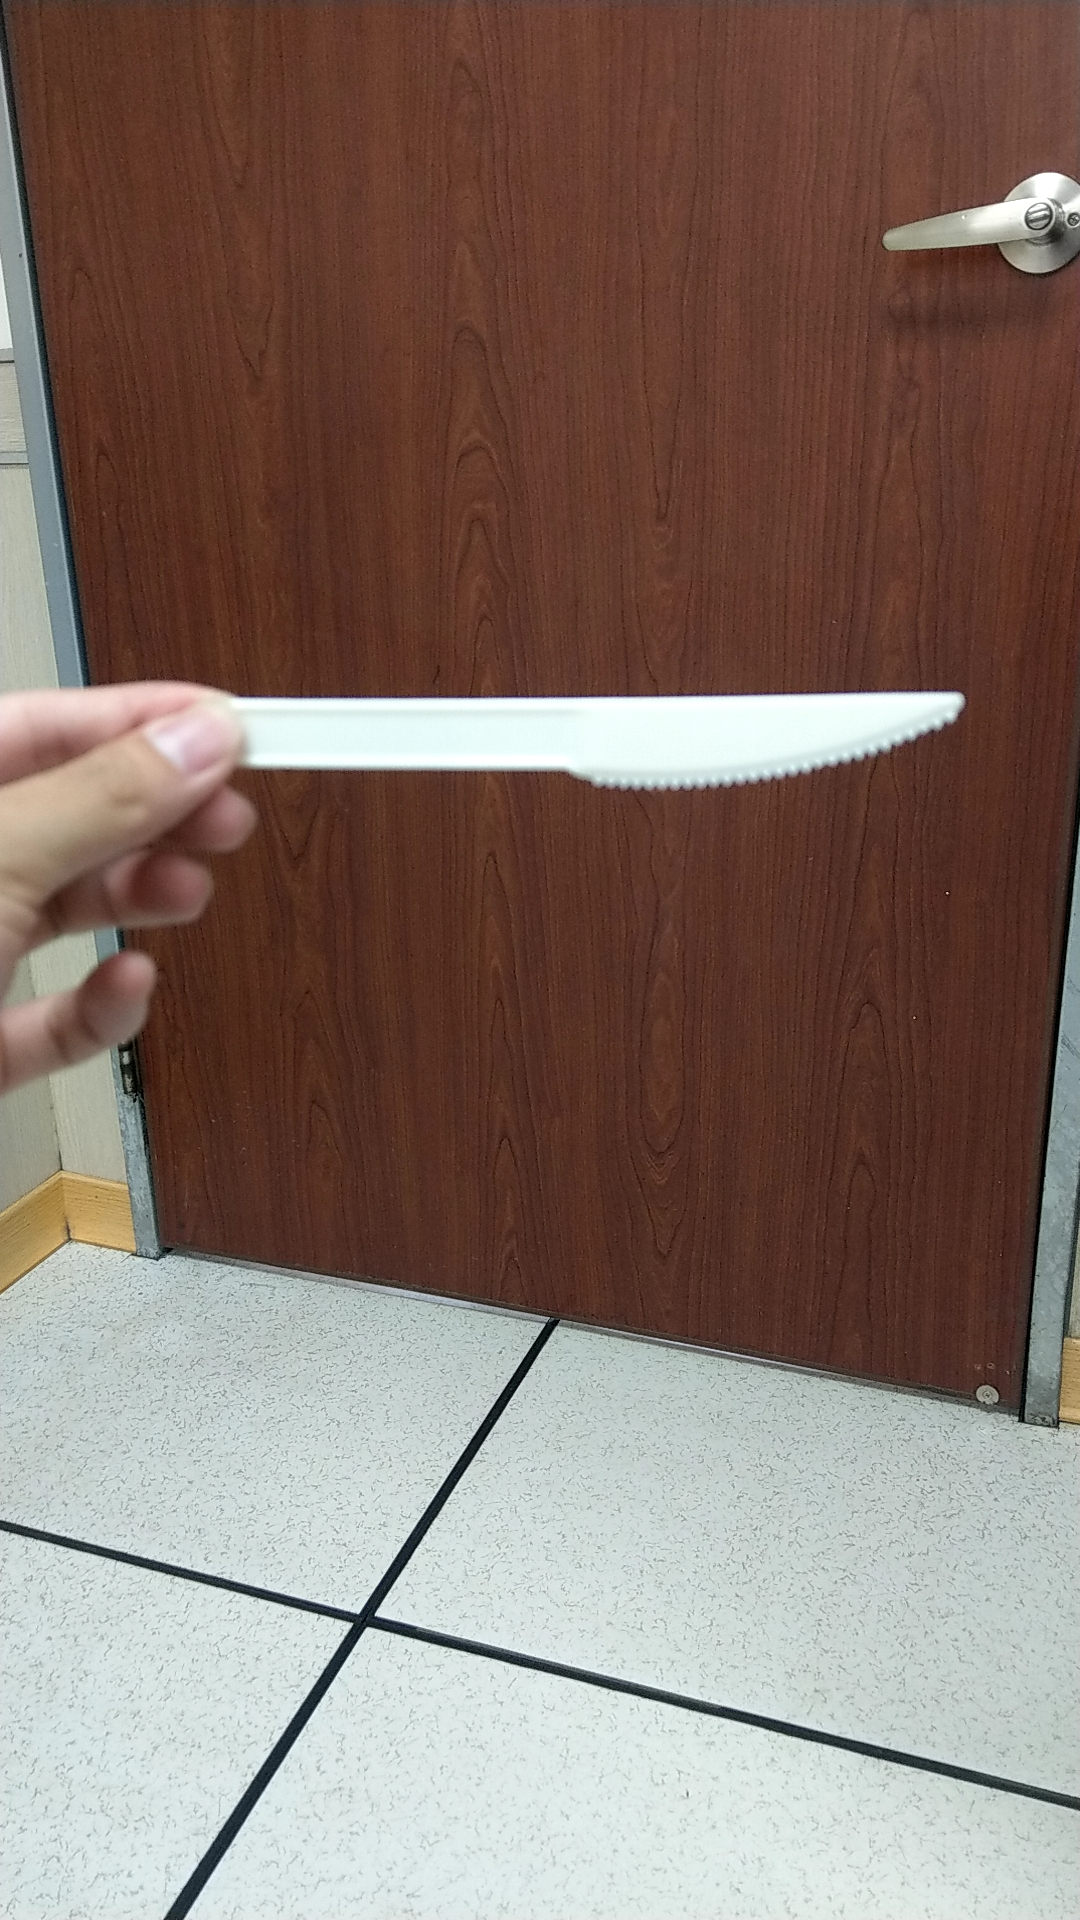knife: (258, 675, 1004, 847)
